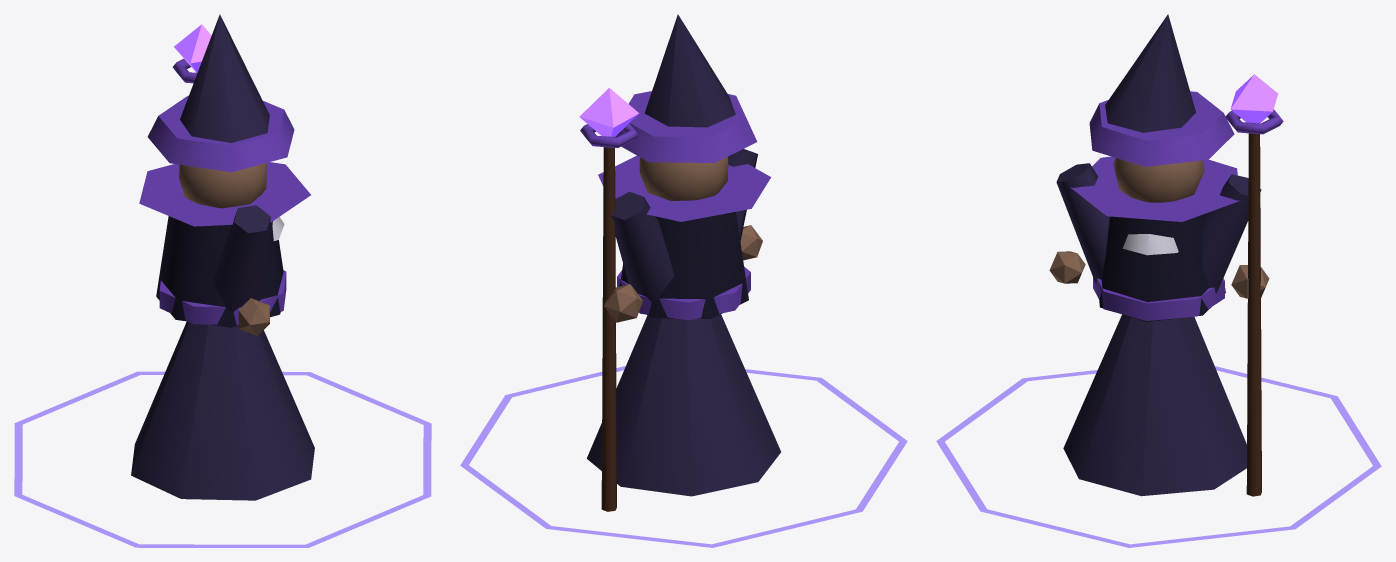
File: arcane_wizard.glb
3 renders of one model, left to right at view 1: azimuth 30°, elevation 25°; view 2: azimuth 150°, elevation 25°; view 3: azimuth 270°, elevation 25°, orthographic.
Parts seen in each view (by area): view 1: ArcaneWizard, LeftArm, StaffGem; view 2: ArcaneWizard, Staff, RightArm, StaffGem, LeftArm, RightHand; view 3: ArcaneWizard, Staff, LeftArm, RightArm, StaffGem, RightHand.
Part boxes in pixels (x1,y1,x2,y2): ArcaneWizard: (14,14,431,547); LeftArm: (212,205,270,335); StaffGem: (174,24,211,72); ArcaneWizard: (460,14,907,547); Staff: (580,123,638,511); RightArm: (611,192,674,302); StaffGem: (579,87,639,136); LeftArm: (728,149,762,260); RightHand: (604,284,642,322); ArcaneWizard: (936,14,1381,547); Staff: (1225,109,1283,496); LeftArm: (1049,163,1109,283); RightArm: (1202,174,1261,293); StaffGem: (1230,74,1277,123); RightHand: (1231,265,1269,298).
Size of the model in its own units: 4.12 by 4.77 by 4.12.
